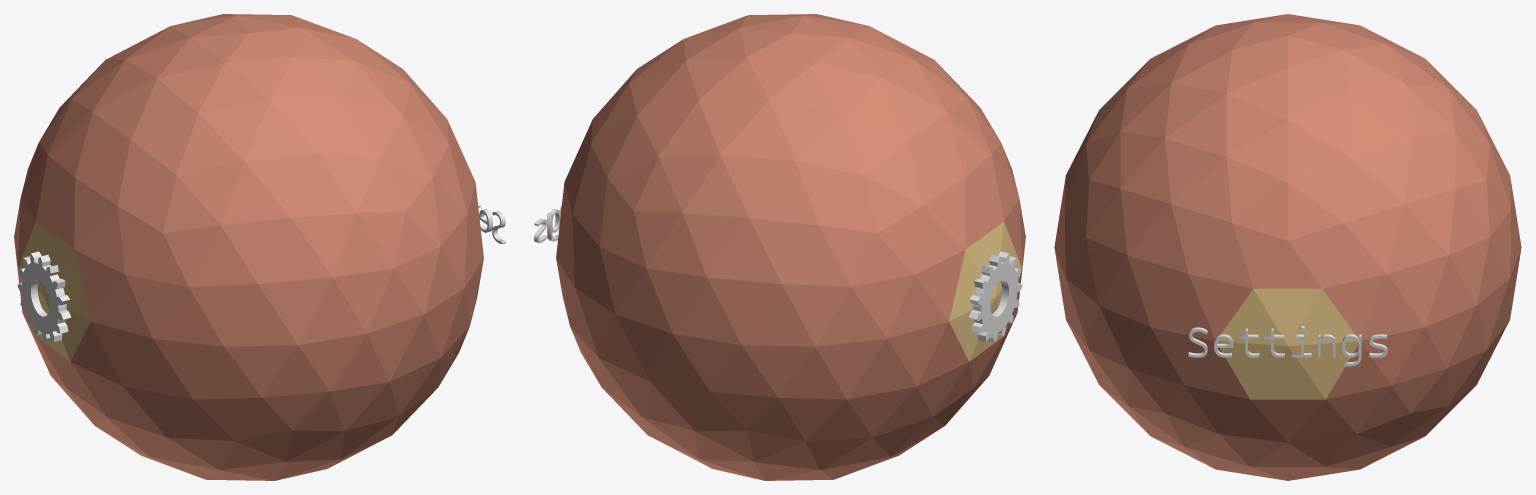
The model's file is SettingsPlanet.fbx.
The picture shows the model from 3 angles, left to right: view 1: azimuth 30°, elevation 25°; view 2: azimuth 150°, elevation 25°; view 3: azimuth 270°, elevation 25°; orthographic projection.
Parts seen in each view (by area): view 1: SettingsPlanet, SettingsButton, SettingsText; view 2: SettingsPlanet, SettingsButton, SettingsText; view 3: SettingsPlanet, SettingsText.
Part boxes in pixels (x1,y1,x2,y2): SettingsPlanet: (14, 14, 483, 480); SettingsButton: (17, 251, 71, 342); SettingsText: (478, 203, 505, 243); SettingsPlanet: (556, 14, 1025, 480); SettingsButton: (968, 251, 1022, 342); SettingsText: (534, 204, 561, 243); SettingsPlanet: (1054, 14, 1521, 480); SettingsText: (1188, 325, 1387, 366).
Bounding box in the file's own units: 20.3 × 20 × 20.
